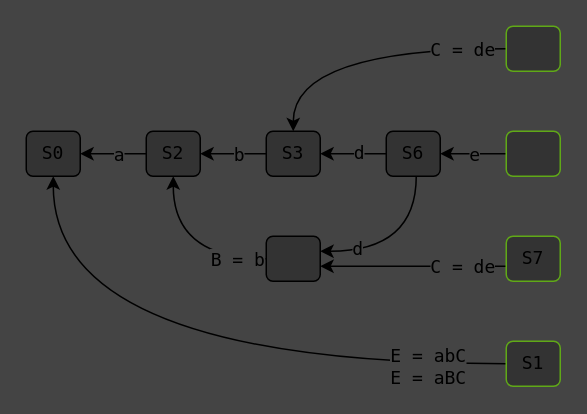
The diagram is 587 pixels wide and 414 high, and some of its shapes have lost their labels. Each missing label, with the centre of its shape:
"S4" goes at (292,258).
"S5" goes at (532,48).
"S8" goes at (532,153).
